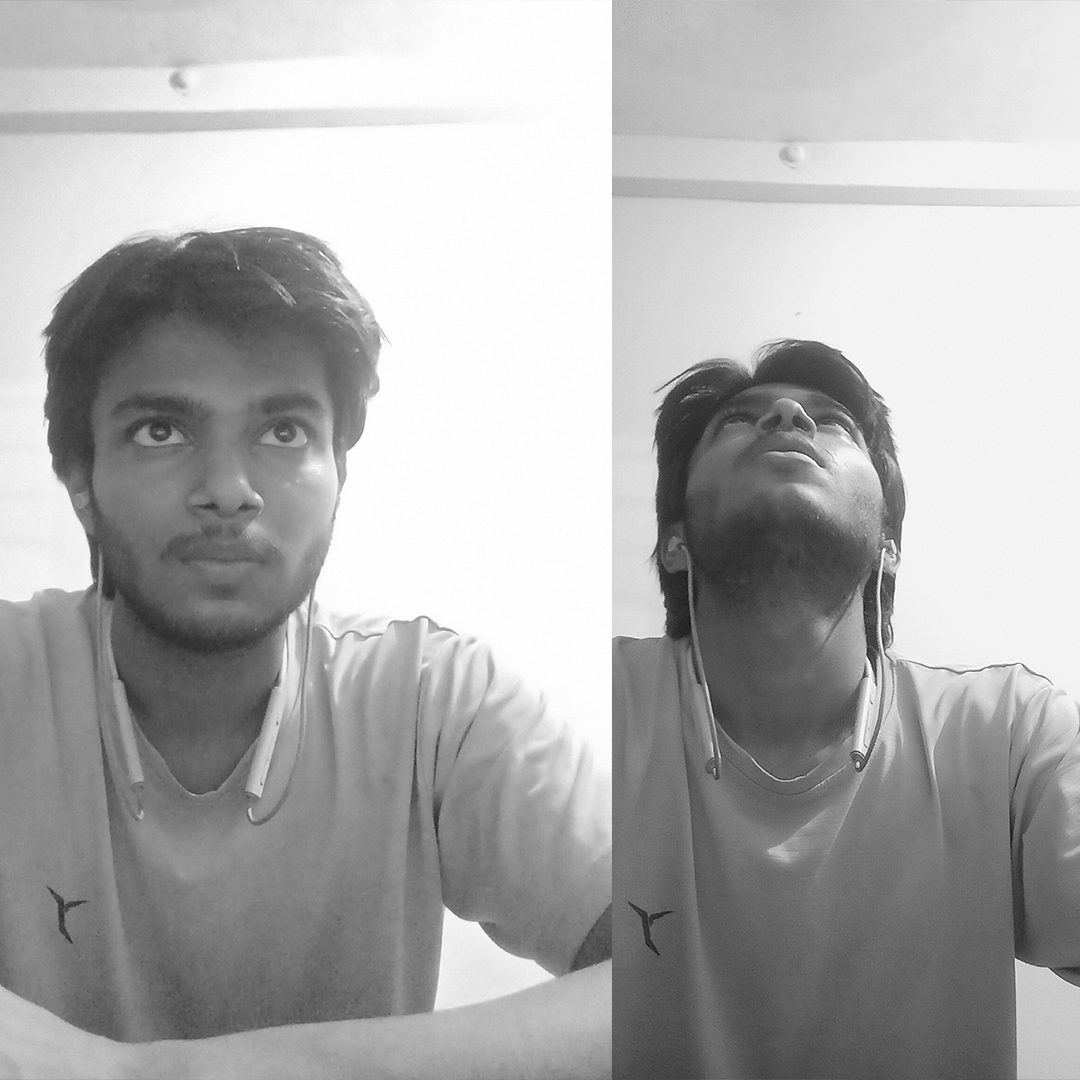Focused: (24, 171, 499, 1007)
distracted: (600, 260, 950, 987)
